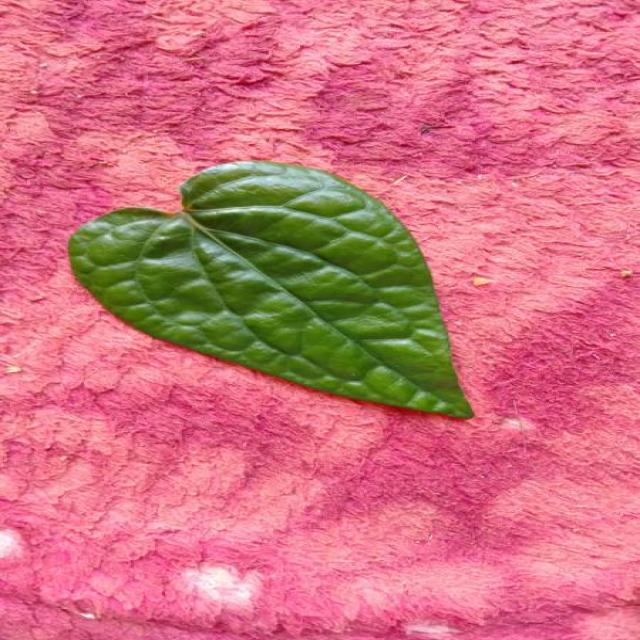betel: (70, 161, 472, 418)
